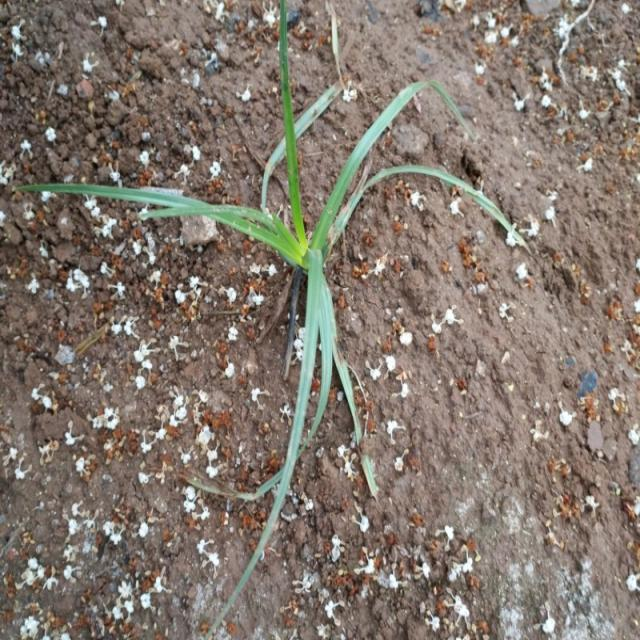sedge: (98, 67, 436, 507)
